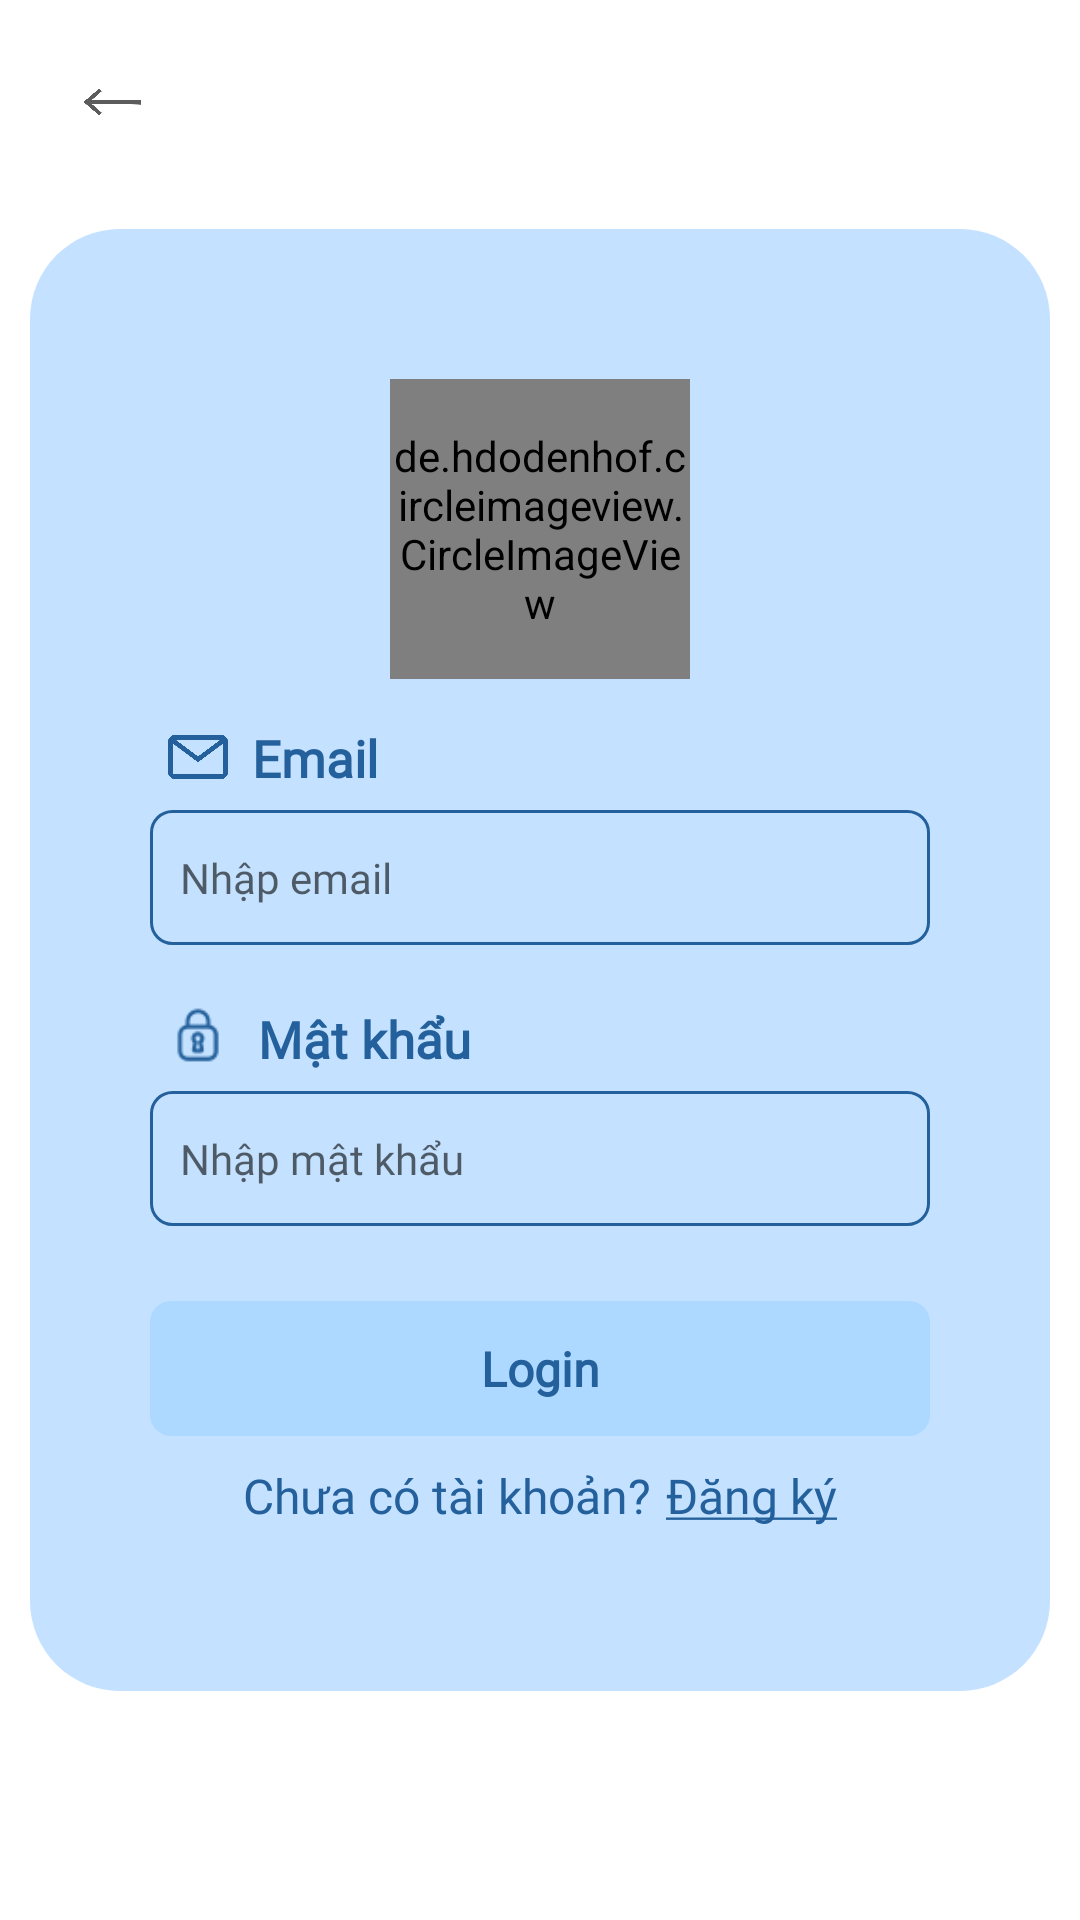

Locate icon controls on the screen. Image size 1080px×1920px, boxes as (x1, y1, x2, y2).
left: (84, 89, 141, 115)
password: (177, 1008, 219, 1062)
